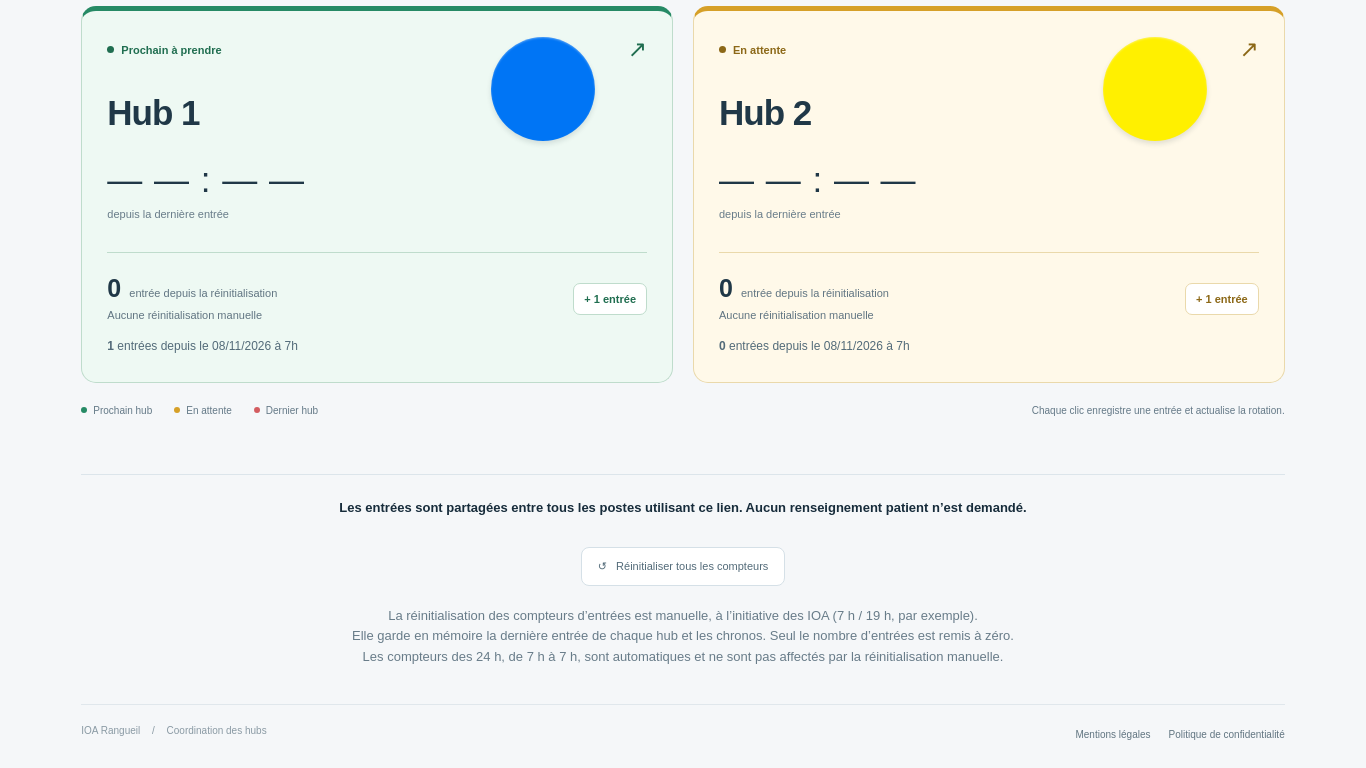
Test: Interface Rangueil › réessaie après erreur avec le même identifiant, même hors ligne
This screenshot has width=1366, height=768.
(page scrolled)
Click the button "↺ Réinitialiser tous les compteurs" at point(683, 566), box [581,547,785,586]
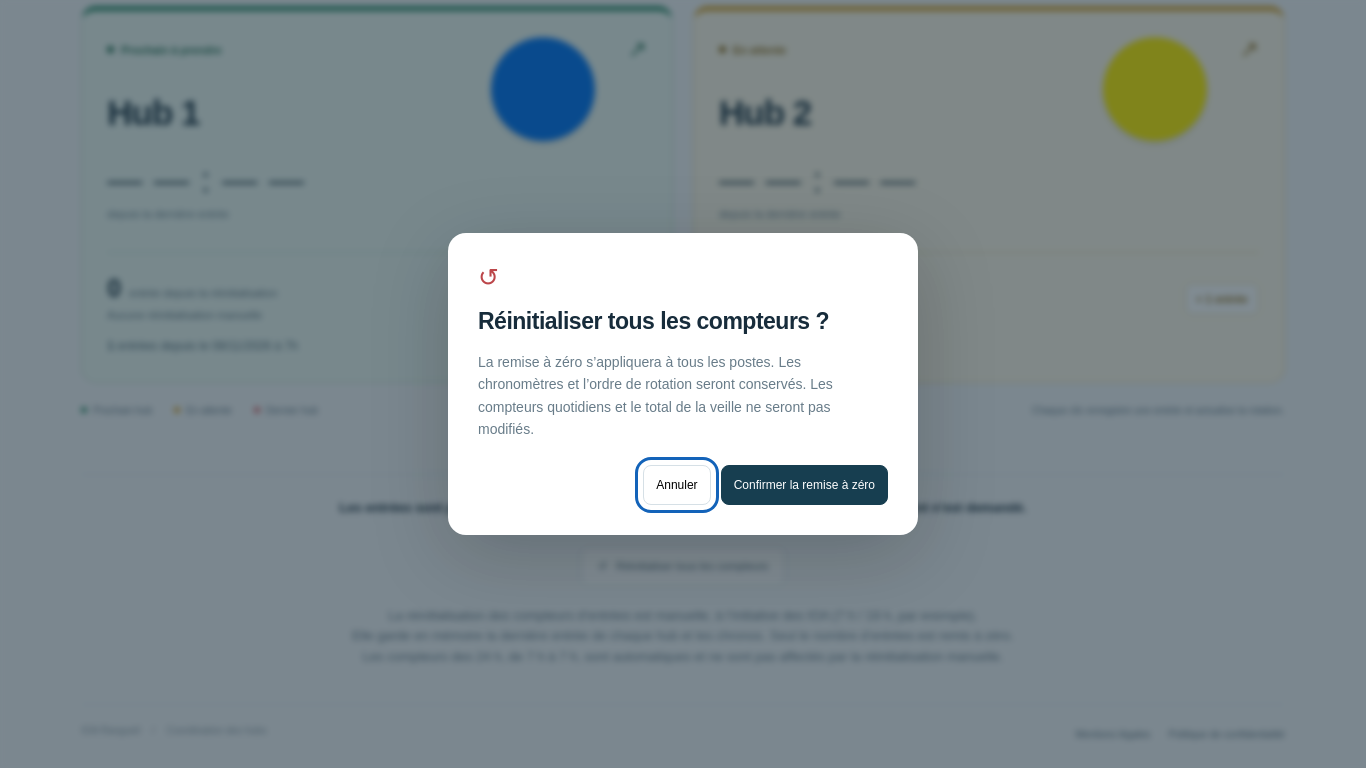
Click the button "Confirmer la remise à zéro" at point(804, 485), box [721,465,888,505]
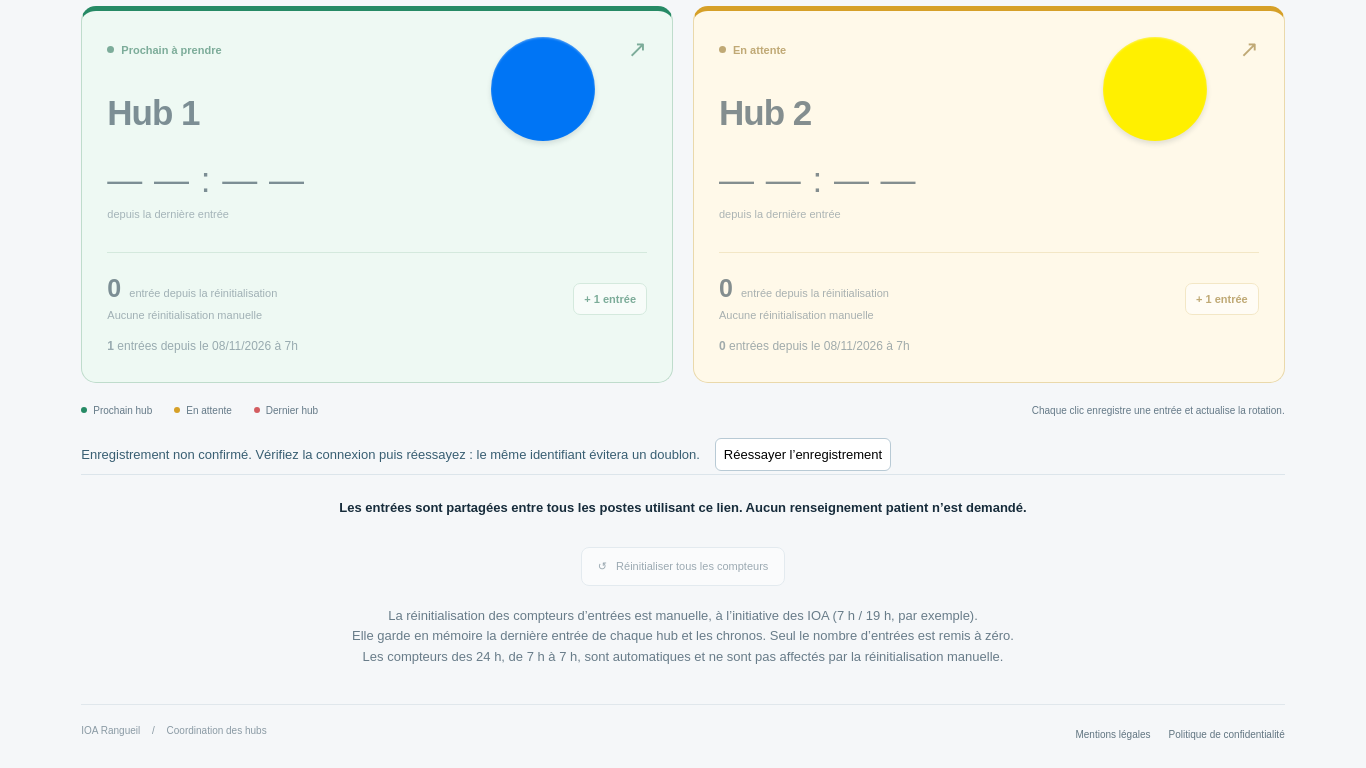
Expected: the button with aria-label "Enregistrer une entrée dans le Hub 1" is disabled, [82,11,672,382]
Click the button "Réessayer l’enregistrement" at point(803, 454), box [715,438,891,471]
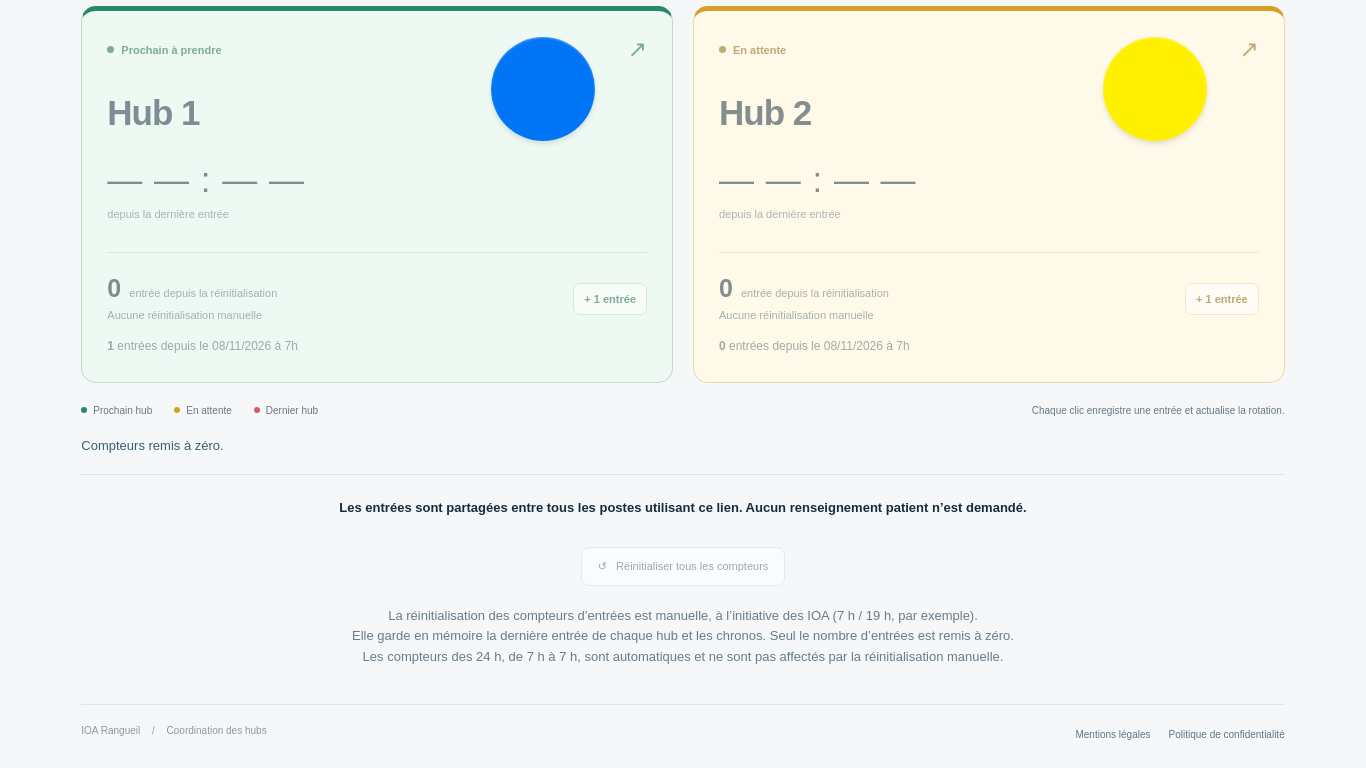
Expected: the text "Compteurs remis à zéro." is shown, [81,438,224,453]
